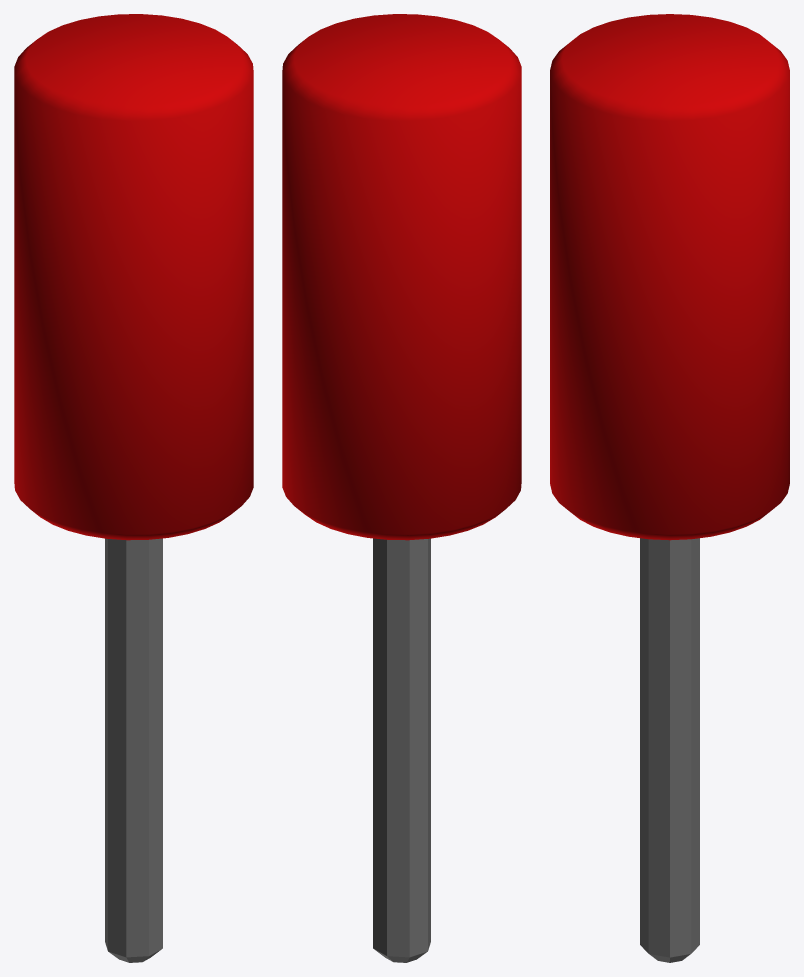
The model's file is hammer.fbx.
3 views of the same model, side by side, from view 1: azimuth 30°, elevation 25°; view 2: azimuth 150°, elevation 25°; view 3: azimuth 270°, elevation 25° (orthographic).
Visible parts, largest first — view 1: Cilindro.013, Cilindro.015; view 2: Cilindro.013, Cilindro.015; view 3: Cilindro.013, Cilindro.015.
Boxes of the visible parts, box(x1,y1,x2,y2) form: Cilindro.013: box(14, 14, 253, 540); Cilindro.015: box(105, 538, 162, 962); Cilindro.013: box(282, 14, 521, 540); Cilindro.015: box(373, 538, 430, 962); Cilindro.013: box(550, 14, 789, 540); Cilindro.015: box(640, 538, 699, 962).
Bounding box in the file's own units: 200 × 824 × 200.
1 material, 1 textured.
